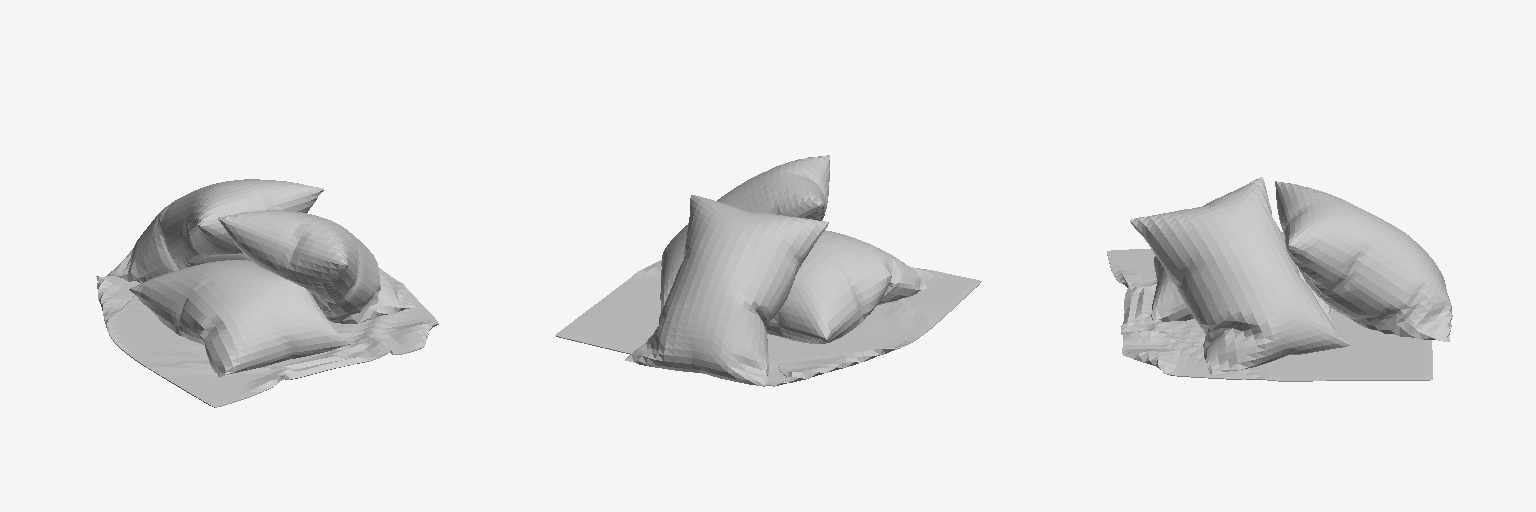
File: Toxic.obj
The picture shows the model from 3 angles: view 1: azimuth 30°, elevation 25°; view 2: azimuth 150°, elevation 25°; view 3: azimuth 270°, elevation 25°; orthographic projection.
Visible parts, largest first — view 1: Cube.001; view 2: Cube.001; view 3: Cube.001.
Boxes of the visible parts, x1,y1,x2,y2 form: Cube.001: [96, 179, 438, 407]; Cube.001: [555, 155, 981, 386]; Cube.001: [1107, 177, 1452, 381].
Size of the model in its own units: 3.95 by 1.59 by 4.25.